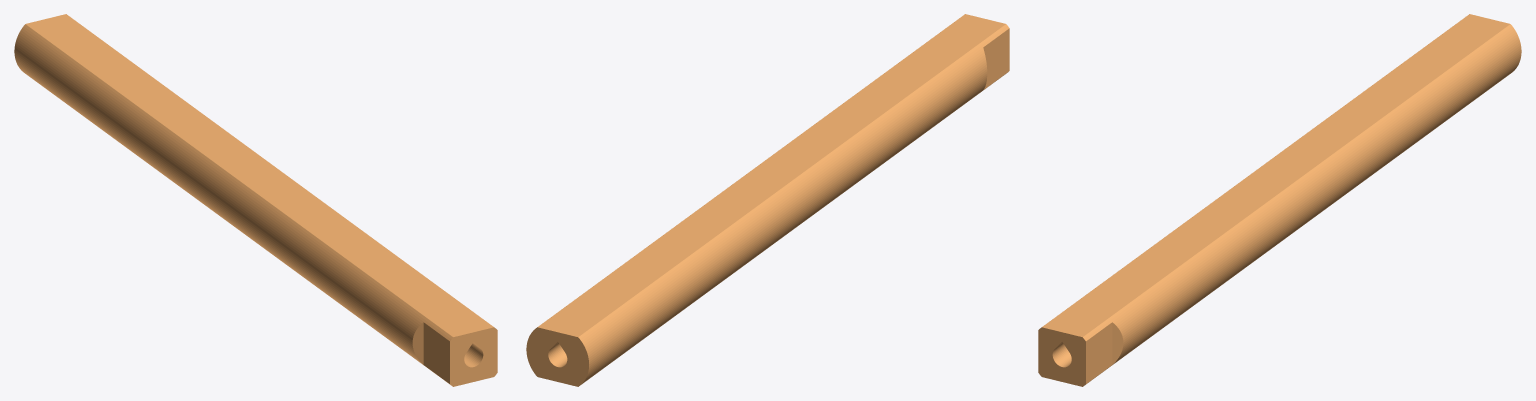
The model's file is kit-barbell-shaft.glb.
3 views of the same model, side by side, from view 1: azimuth 30°, elevation 25°; view 2: azimuth 150°, elevation 25°; view 3: azimuth 330°, elevation 25° (orthographic).
Parts seen in each view (by area): view 1: kit-barbell-shaft; view 2: kit-barbell-shaft; view 3: kit-barbell-shaft.
Part boxes in pixels (x1,y1,x2,y2): kit-barbell-shaft: [14, 14, 497, 386]; kit-barbell-shaft: [526, 14, 1009, 386]; kit-barbell-shaft: [1038, 14, 1521, 386].
Size of the model in its own units: 0.0066 by 0.005 by 0.078.
